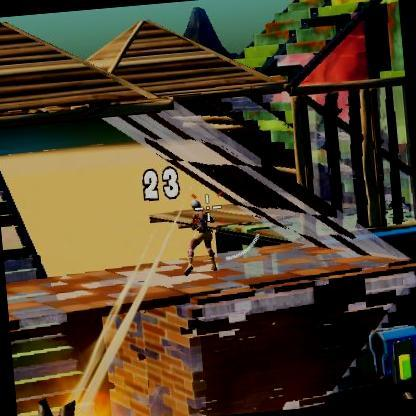person: (186, 193, 226, 279)
